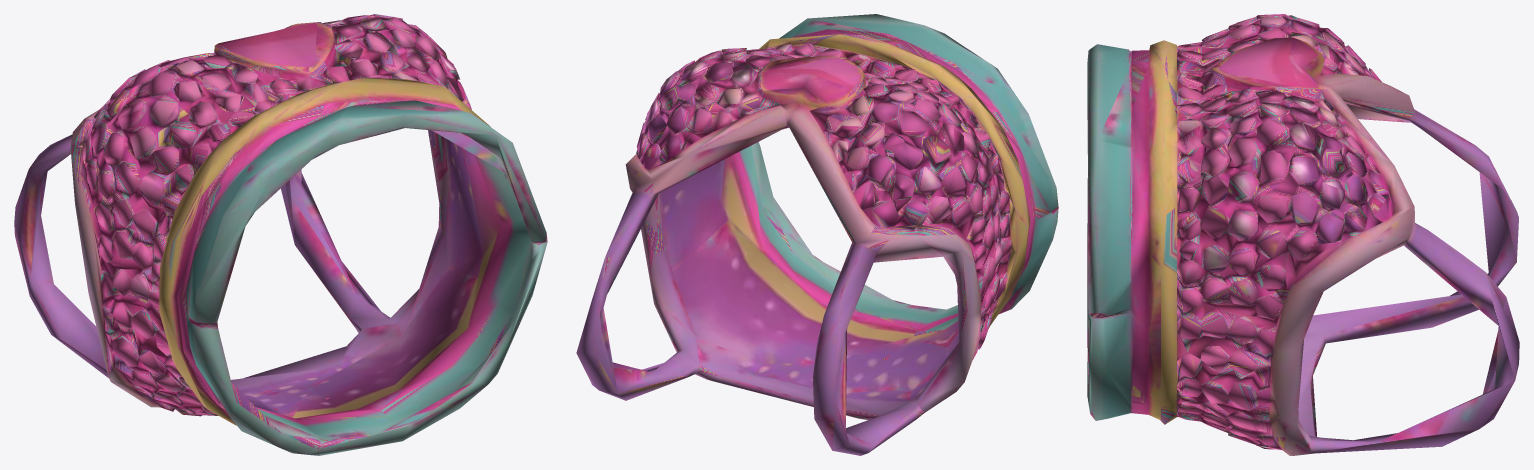
The picture shows the model from 3 angles, left to right: view 1: azimuth 30°, elevation 25°; view 2: azimuth 150°, elevation 25°; view 3: azimuth 270°, elevation 25°; orthographic projection. The views are drawn at different scales.
Parts seen in each view (by area): view 1: material; view 2: material; view 3: material.
Part boxes in pixels (box(x1,y1,x2,y2)): material: box(14, 14, 547, 455); material: box(576, 14, 1058, 455); material: box(1087, 14, 1519, 455).
Bounding box in the file's own units: 0.9651 × 0.9131 × 1.
Materials: 1 (1 with a texture image).
